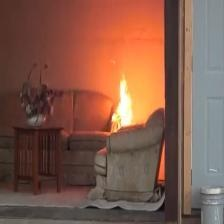fire: (109, 73, 141, 123)
